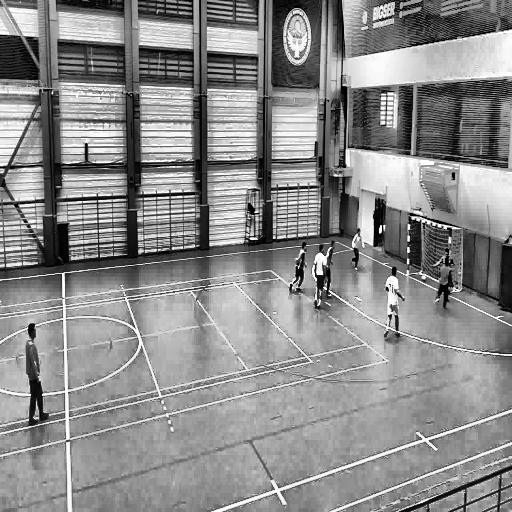ball: (420, 270, 428, 286)
player: (23, 323, 50, 428), (383, 267, 406, 340), (432, 247, 458, 301), (288, 242, 308, 292), (436, 258, 453, 313), (314, 242, 327, 312), (350, 227, 366, 273), (324, 239, 336, 299)
